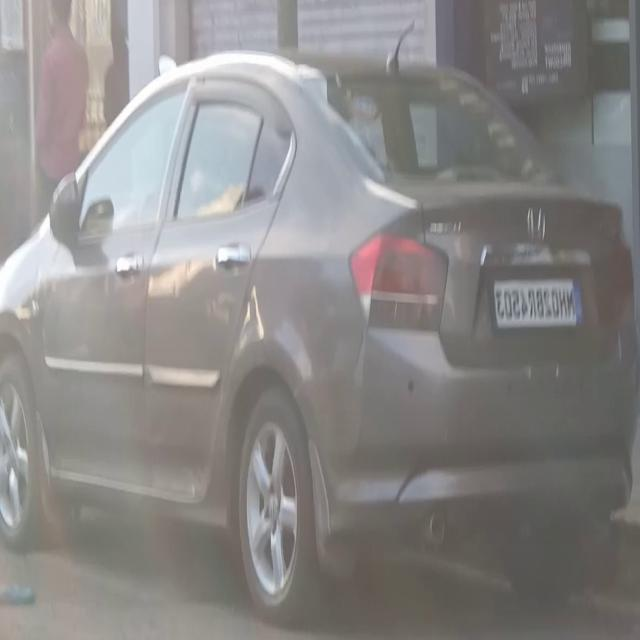license_plate: (489, 272, 587, 339)
